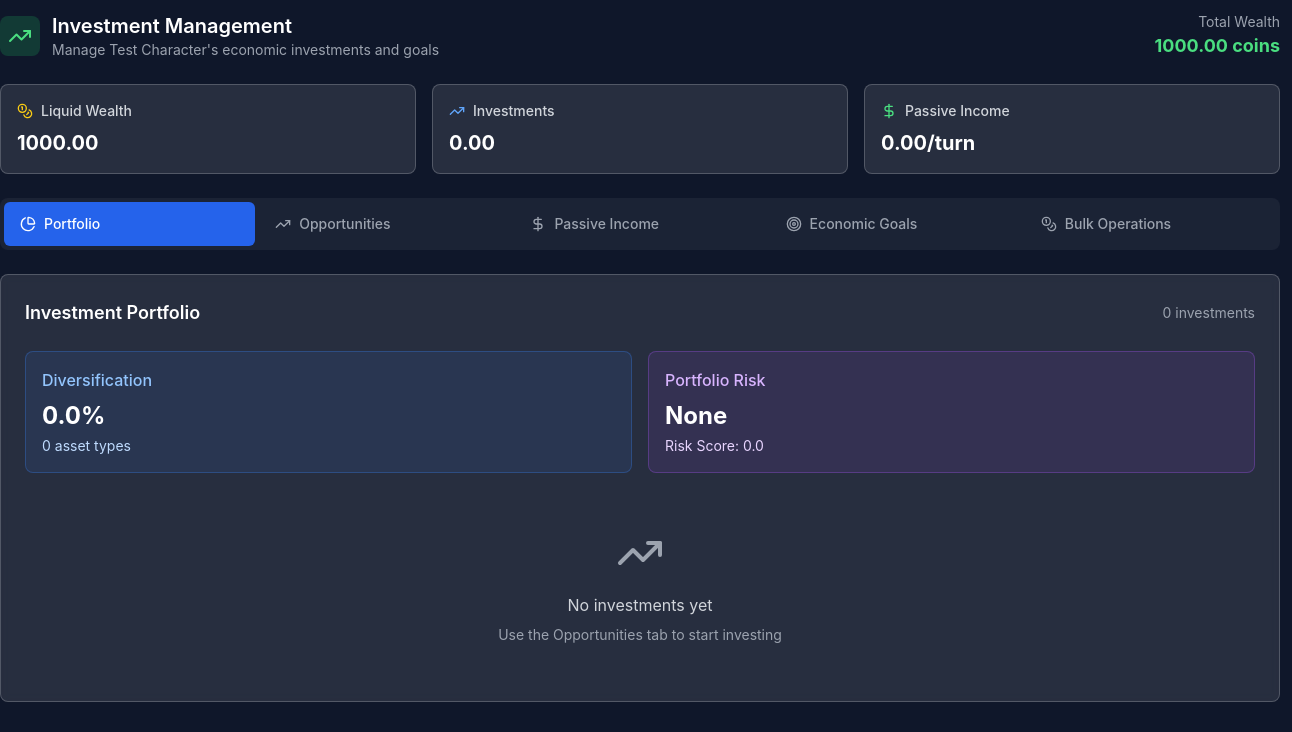
it: InvestmentEditor Basic Tests › can switch to opportunities tab
What coordinates should you click on to do the following:
click the button "Opportunities"
I would click on:
 (385, 224)
Its box is 259,202 -> 510,246.
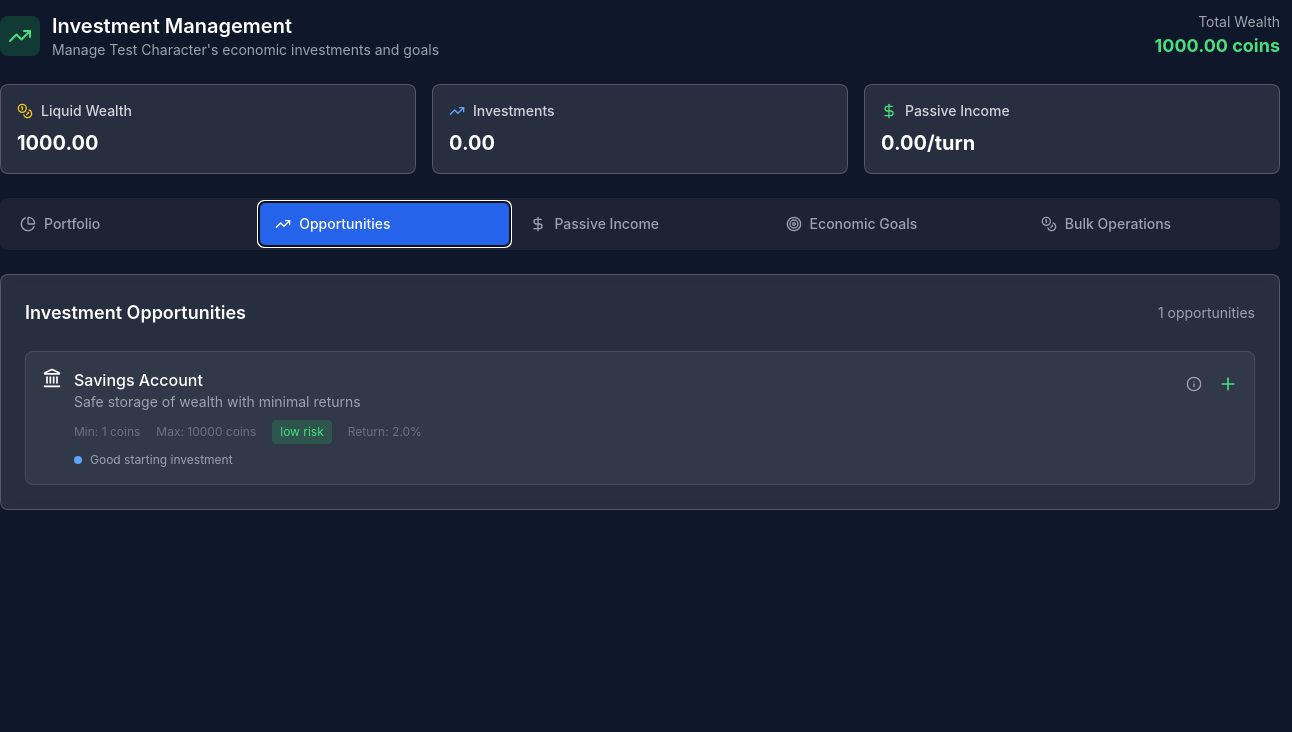
Now the heading "Investment Opportunities" is shown, box 25,299 -> 246,327
